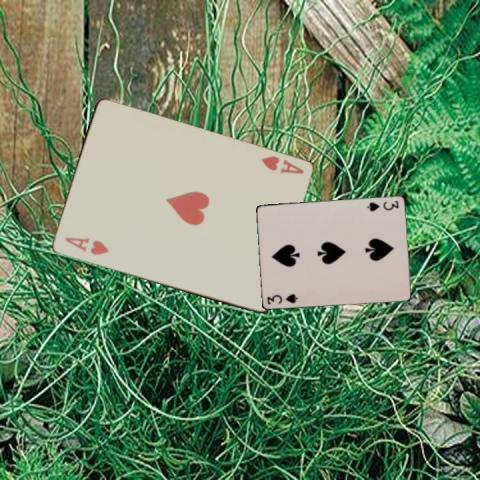3s: (365, 197, 400, 213), (265, 291, 299, 305)
Ah: (61, 234, 110, 257), (258, 153, 305, 175)
